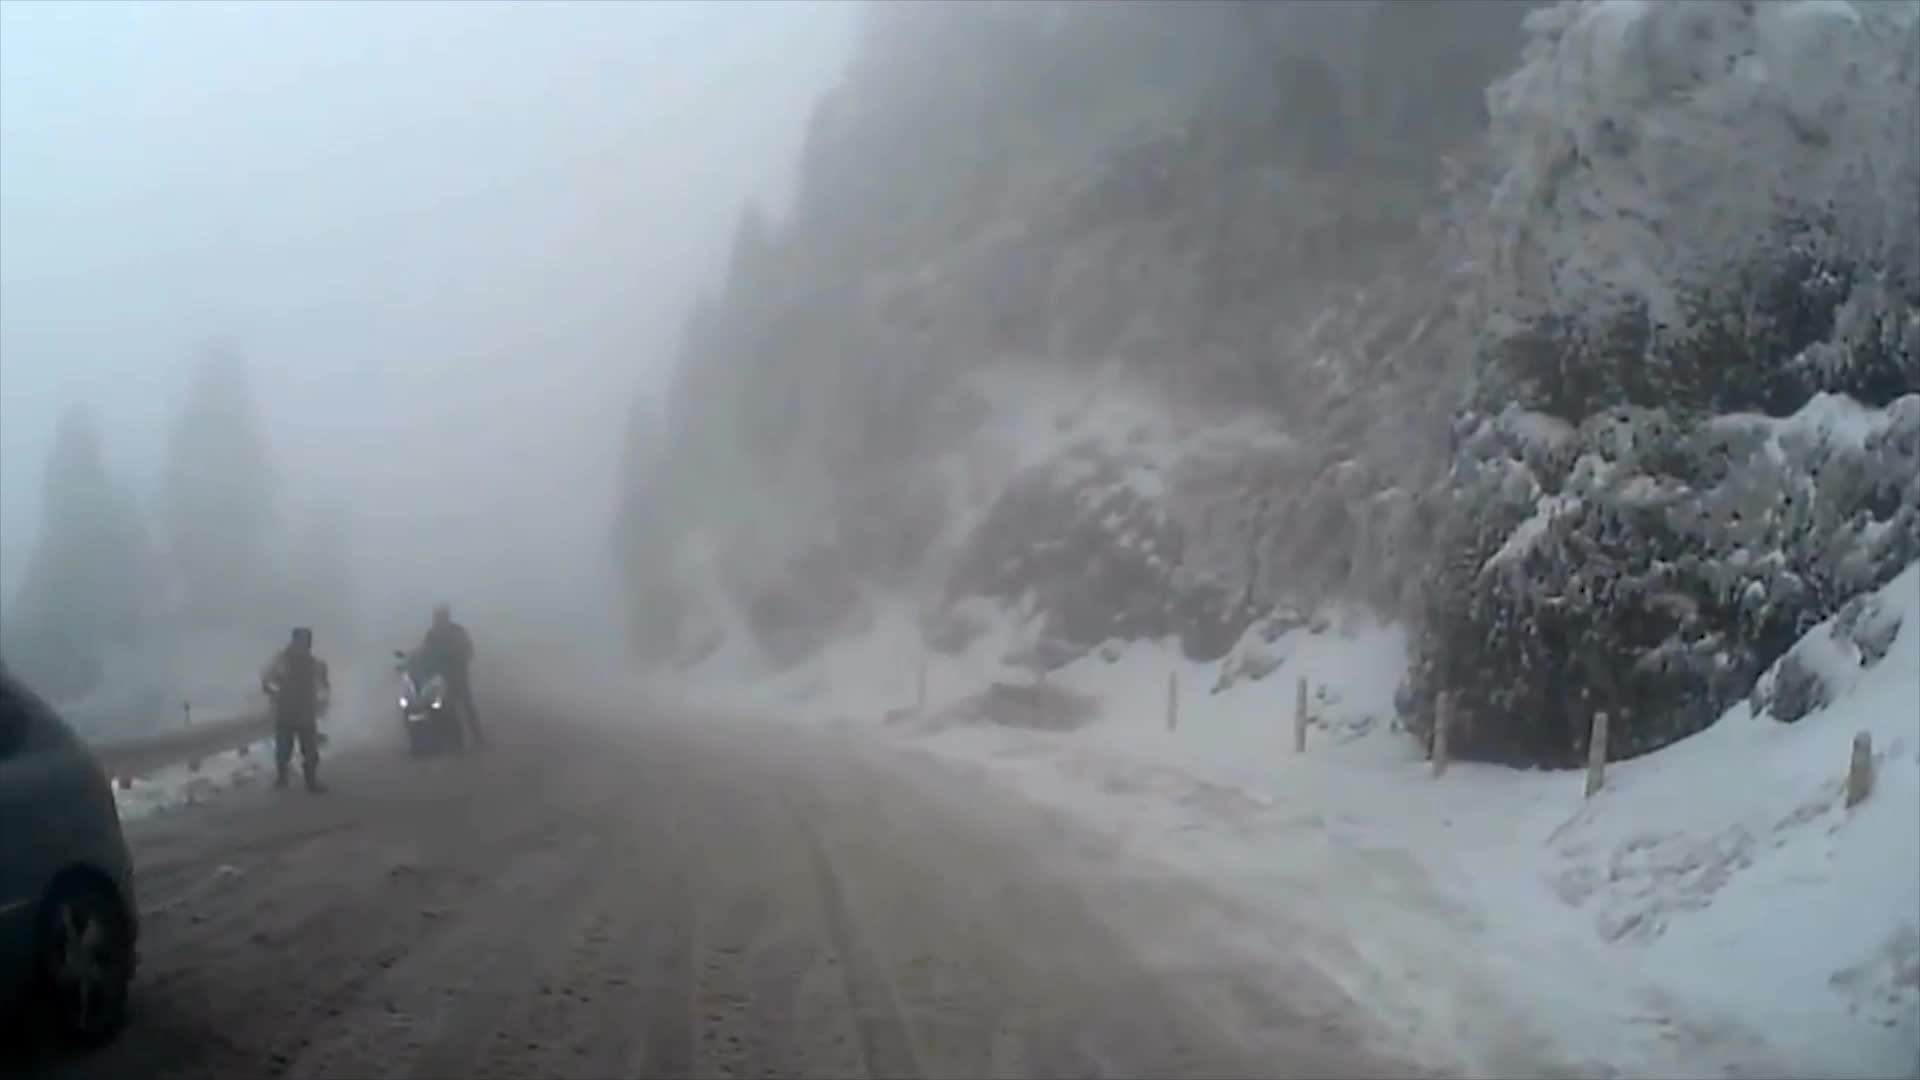pedestrian: (413, 602, 493, 755), (264, 631, 338, 797)
vehicle: (0, 672, 145, 1080)
